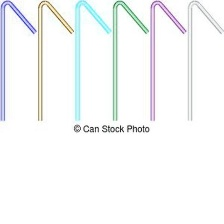drinking_straw: (68, 0, 113, 123), (182, 0, 223, 123), (0, 0, 37, 123)
